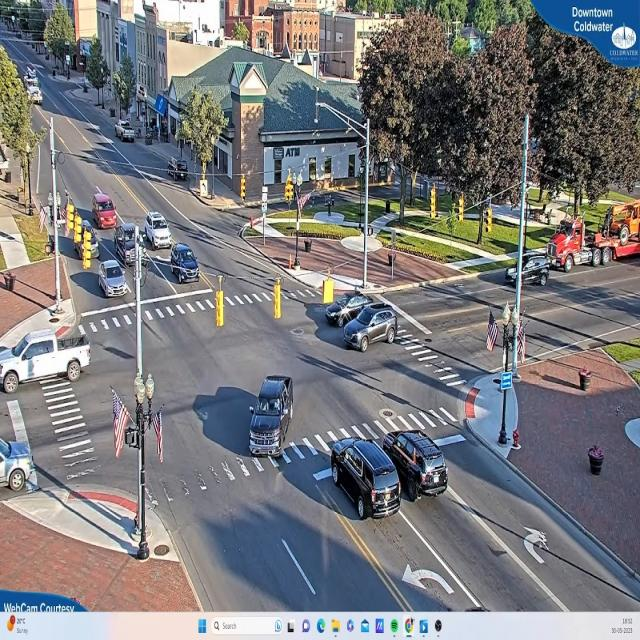car: (328, 439, 402, 521), (0, 334, 93, 394), (385, 430, 448, 500), (250, 379, 294, 458), (343, 306, 397, 351), (112, 216, 146, 259), (326, 296, 372, 327), (95, 259, 130, 298), (142, 211, 175, 251), (171, 244, 201, 282), (91, 193, 121, 231), (118, 121, 137, 145)
